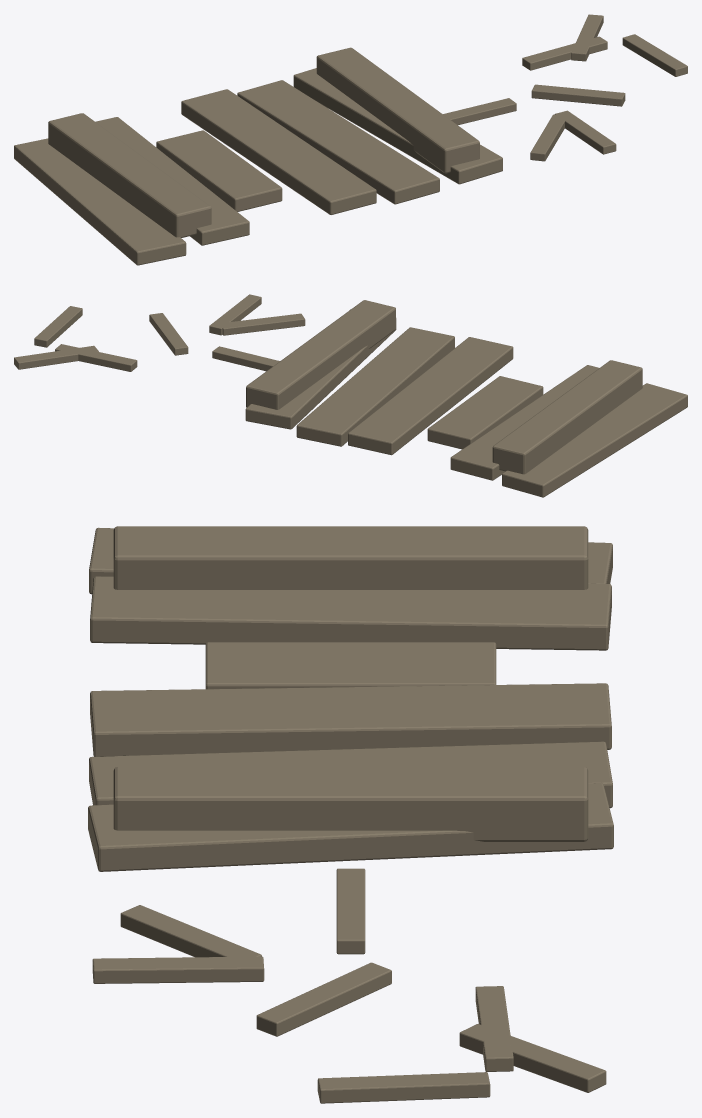
The model's file is broken_pallet.glb.
3 renders of one model, top to bottom at view 1: azimuth 30°, elevation 25°; view 2: azimuth 150°, elevation 25°; view 3: azimuth 270°, elevation 25°, orthographic. The views are drawn at different scales.
Parts seen in each view (by area): view 1: broken_pallet; view 2: broken_pallet; view 3: broken_pallet.
Part boxes in pixels (x1,y1,x2,y2): broken_pallet: (14, 14, 687, 265); broken_pallet: (14, 294, 687, 497); broken_pallet: (88, 526, 613, 1103).
Size of the model in its own units: 2.05 by 0.1225 by 0.8314.
